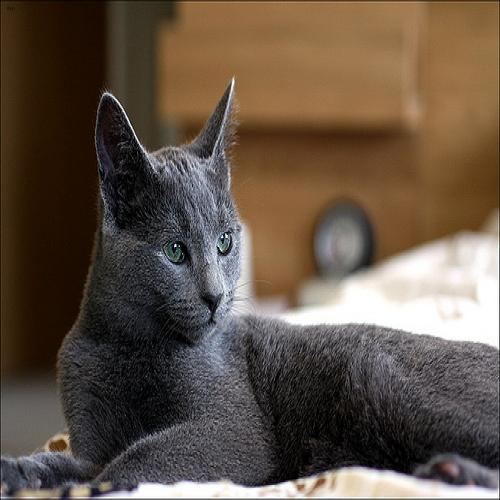rblue: (79, 66, 269, 349)
